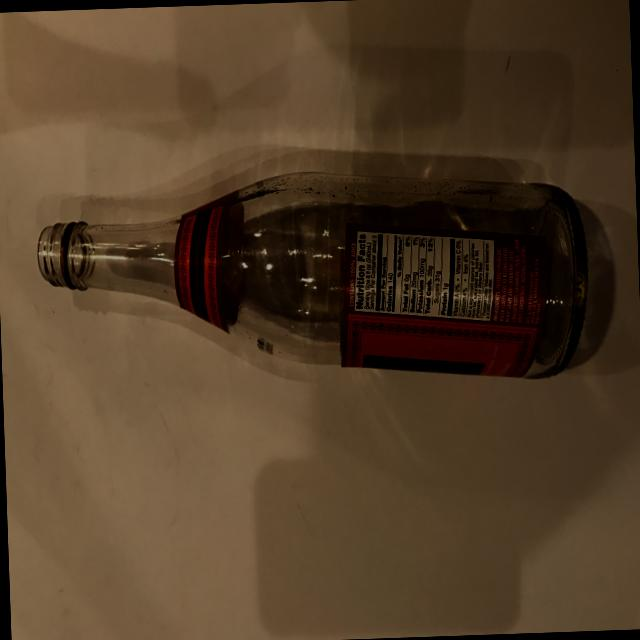Glass: (26, 130, 606, 410)
